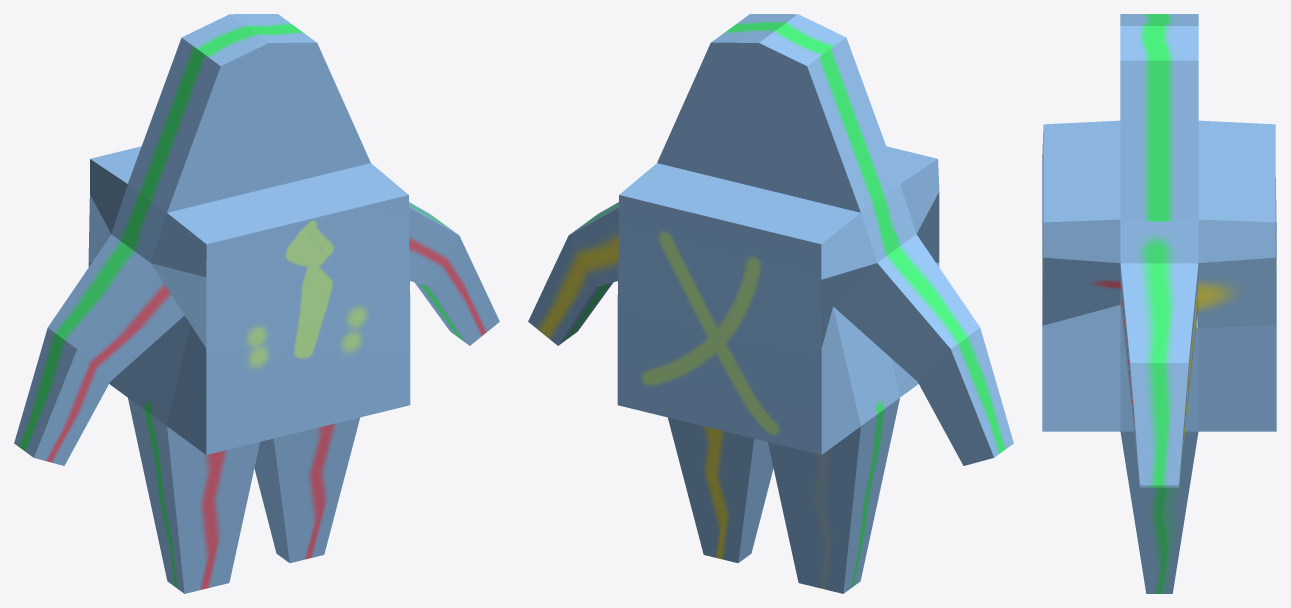
The model's file is idle3.gltf.
3 renders of one model, left to right at view 1: azimuth 30°, elevation 25°; view 2: azimuth 150°, elevation 25°; view 3: azimuth 270°, elevation 25°, orthographic.
Visible parts, largest first — view 1: Cube; view 2: Cube; view 3: Cube.
Part boxes in pixels (x1,y1,x2,y2): Cube: [14, 14, 499, 593]; Cube: [528, 14, 1013, 593]; Cube: [1042, 14, 1276, 593].
Size of the model in its own units: 4.61 by 5.12 by 2.02.
